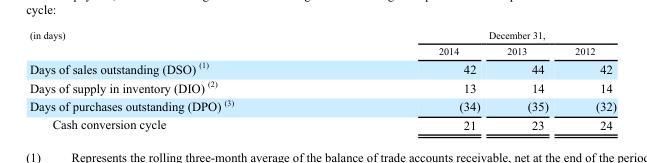table: (28, 28, 616, 132)
table column: (28, 28, 335, 132), (335, 28, 492, 132), (492, 28, 561, 132), (561, 28, 616, 132)
table column header: (28, 28, 616, 57)
table row: (28, 95, 616, 115), (28, 57, 616, 76), (28, 76, 616, 95), (28, 115, 616, 132), (28, 42, 616, 57), (28, 28, 616, 42)
table spanning cell: (28, 28, 335, 57), (335, 28, 616, 42)
